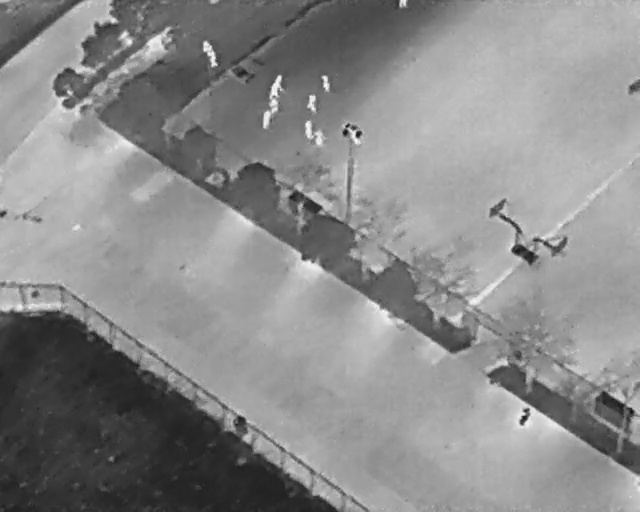Bicycle: (514, 405, 534, 427)
Person: (259, 108, 273, 131), (320, 72, 332, 92), (314, 129, 326, 147), (304, 119, 314, 140), (306, 93, 316, 112), (273, 73, 284, 90), (268, 84, 279, 101), (269, 100, 279, 113), (397, 0, 409, 8)
